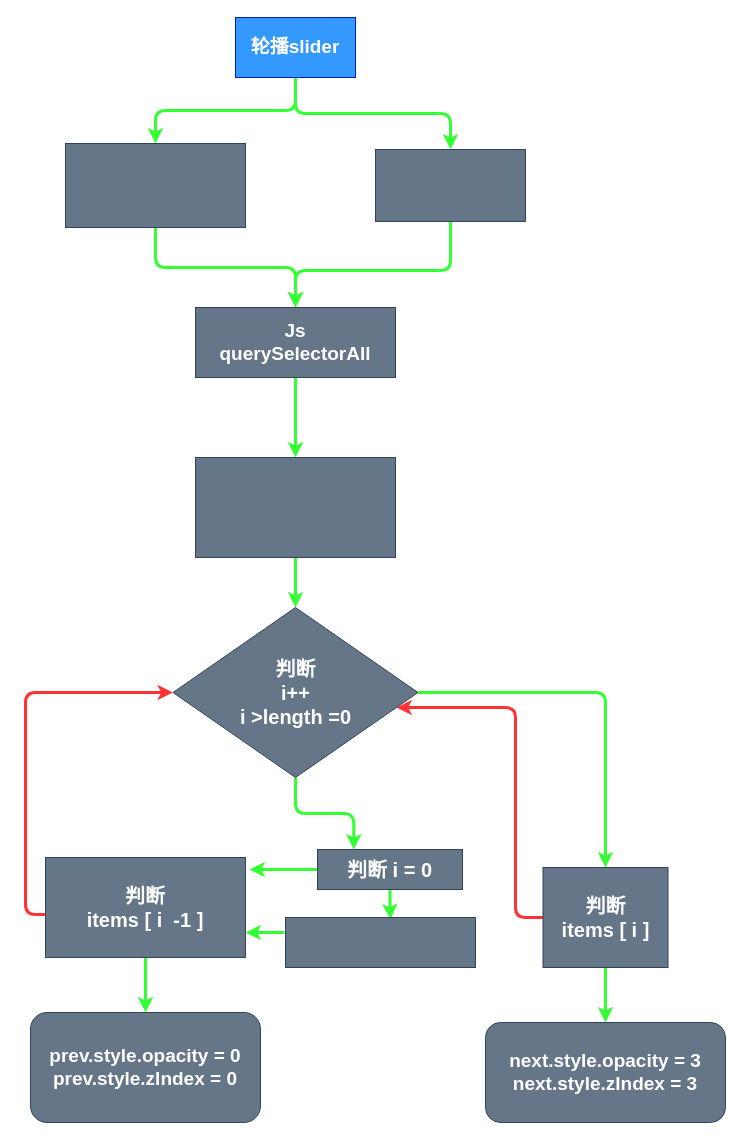
The diagram is 743 pixels wide and 1140 high, and some of its shapes have lost their labels. Here are the shapes that lost their labels. From the top down, the centre of each, then its label:
At (x=155, y=185): "css #slider :relative #items:absolute".
At (x=450, y=185): "Html a>img".
At (x=295, y=507): "Let i = 0; items[ i ] it = items.length - 1".
At (x=380, y=942): "items [ items.length -1 ]".
